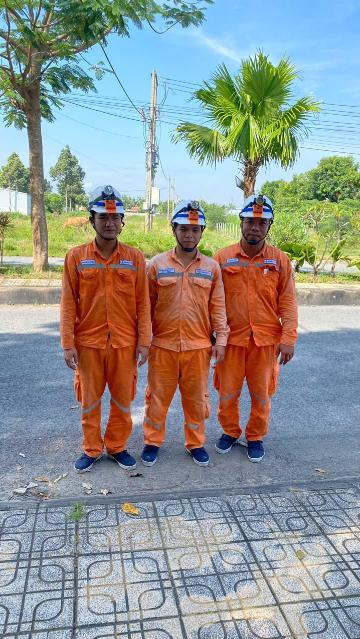helmet: (165, 191, 213, 233), (85, 183, 130, 225), (238, 190, 279, 224)
shoes: (243, 431, 272, 467), (138, 437, 167, 472), (103, 446, 136, 476), (208, 426, 241, 455), (69, 450, 103, 476), (184, 437, 210, 471)
